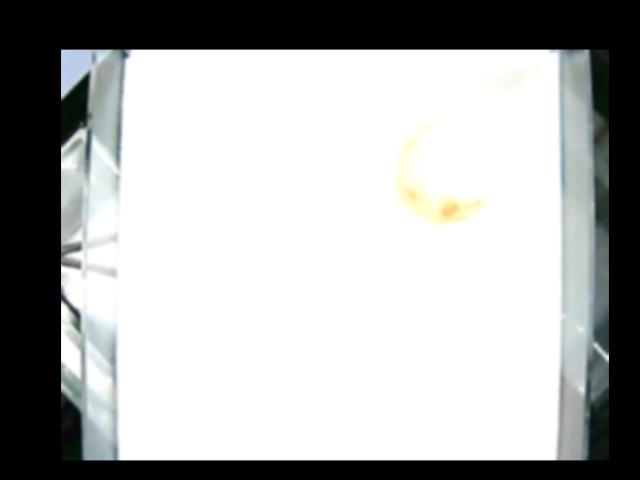Mooli: (394, 120, 484, 223)
